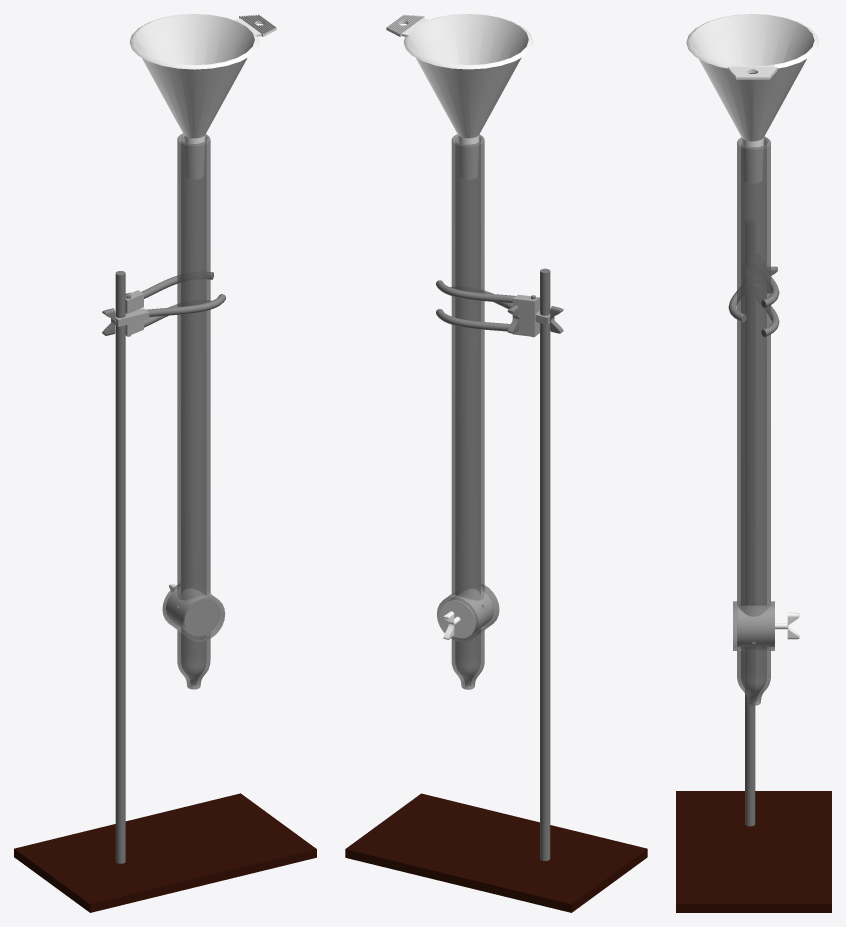
The model's file is Buret_en_Trechter.obj.
3 views of the same model, side by side, from view 1: azimuth 30°, elevation 25°; view 2: azimuth 150°, elevation 25°; view 3: azimuth 270°, elevation 25° (orthographic). The views are drawn at different scales.
Parts seen in each view (by area): view 1: Mesh1 Titration_Items1 Model, Mesh2 Titration_Items1 Model, Mesh4 Group2 Group1 Kitchen_Funnel1 Model, Mesh3 Titration_Items1 Model, Mesh18 Group1 Kitchen_Funnel1 Model; view 2: Mesh1 Titration_Items1 Model, Mesh2 Titration_Items1 Model, Mesh4 Group2 Group1 Kitchen_Funnel1 Model, Mesh3 Titration_Items1 Model, Mesh18 Group1 Kitchen_Funnel1 Model; view 3: Mesh1 Titration_Items1 Model, Mesh2 Titration_Items1 Model, Mesh4 Group2 Group1 Kitchen_Funnel1 Model, Mesh3 Titration_Items1 Model, Mesh18 Group1 Kitchen_Funnel1 Model.
Boxes of the visible parts, x1=… form: Mesh1 Titration_Items1 Model: x1=14, y1=271, x2=316, y2=912; Mesh2 Titration_Items1 Model: x1=162, y1=133, x2=225, y2=689; Mesh4 Group2 Group1 Kitchen_Funnel1 Model: x1=134, y1=14, x2=254, y2=179; Mesh3 Titration_Items1 Model: x1=166, y1=583, x2=219, y2=636; Mesh18 Group1 Kitchen_Funnel1 Model: x1=129, y1=14, x2=261, y2=69; Mesh1 Titration_Items1 Model: x1=345, y1=268, x2=647, y2=912; Mesh2 Titration_Items1 Model: x1=437, y1=134, x2=499, y2=689; Mesh4 Group2 Group1 Kitchen_Funnel1 Model: x1=408, y1=14, x2=528, y2=179; Mesh3 Titration_Items1 Model: x1=440, y1=589, x2=493, y2=639; Mesh18 Group1 Kitchen_Funnel1 Model: x1=401, y1=14, x2=533, y2=69; Mesh1 Titration_Items1 Model: x1=676, y1=266, x2=831, y2=912; Mesh2 Titration_Items1 Model: x1=733, y1=136, x2=774, y2=705; Mesh4 Group2 Group1 Kitchen_Funnel1 Model: x1=691, y1=14, x2=814, y2=183; Mesh3 Titration_Items1 Model: x1=737, y1=605, x2=799, y2=646; Mesh18 Group1 Kitchen_Funnel1 Model: x1=686, y1=14, x2=819, y2=68.
Size of the model in its own units: 56.39 by 193 by 32.82.
